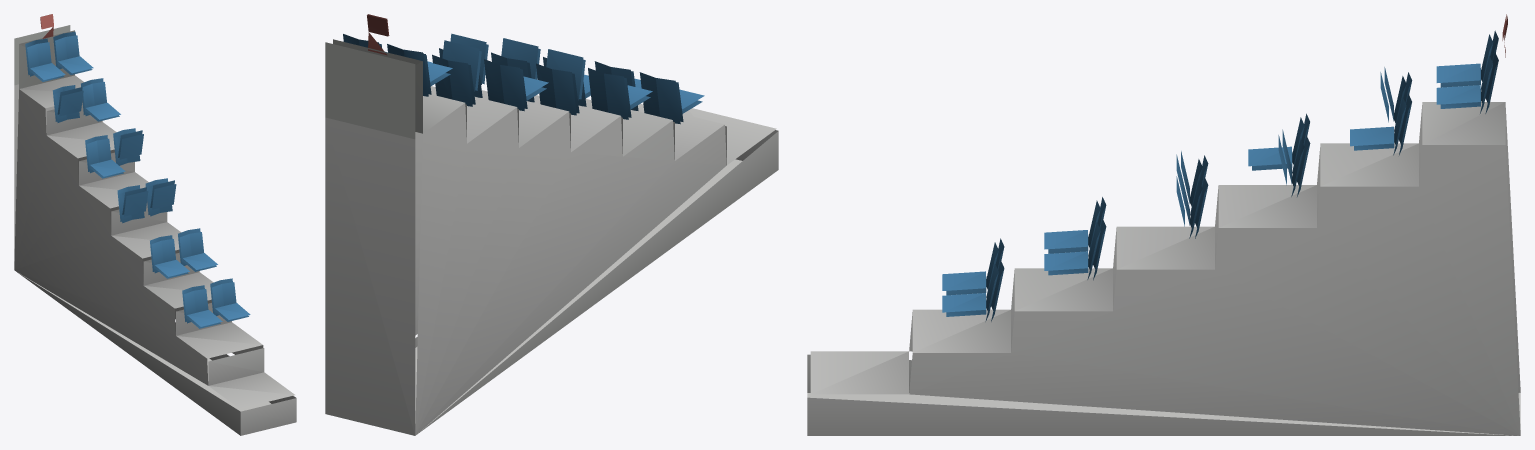
Rendered from seats.lod.glb.
3 renders of one model, left to right at view 1: azimuth 30°, elevation 25°; view 2: azimuth 150°, elevation 25°; view 3: azimuth 270°, elevation 25°, orthographic. The views are drawn at different scales.
Visible parts, largest first — view 1: seats; view 2: seats; view 3: seats.
Boxes of the visible parts, box(x1,y1,x2,y2) form: seats: box(14, 14, 296, 435); seats: box(325, 14, 778, 435); seats: box(807, 14, 1520, 435).
Size of the model in its own units: 1.5 by 6.42 by 10.5.
